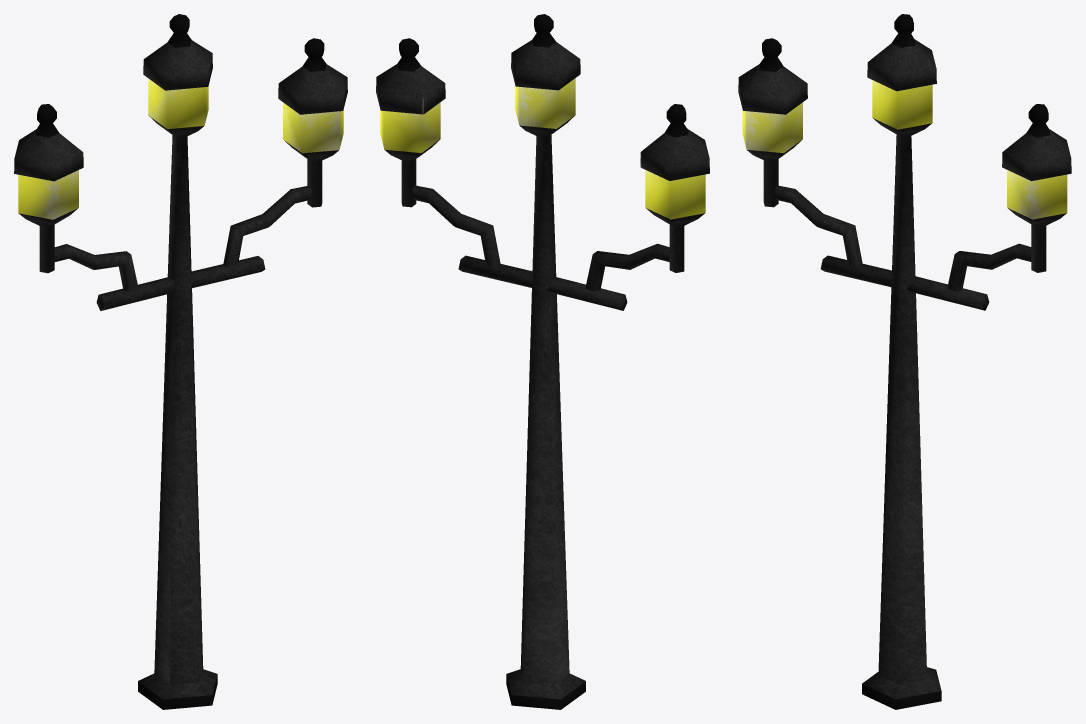
Rendered from LightPole.FBX.
3 renders of one model, left to right at view 1: azimuth 30°, elevation 25°; view 2: azimuth 150°, elevation 25°; view 3: azimuth 330°, elevation 25°, orthographic.
Parts seen in each view (by area): view 1: LightPole_01; view 2: LightPole_01; view 3: LightPole_01.
Part boxes in pixels (x1,y1,x2,y2): LightPole_01: [14, 14, 347, 709]; LightPole_01: [376, 14, 709, 709]; LightPole_01: [738, 14, 1071, 709].
Bounding box in the file's own units: 163 × 316 × 34.35.
